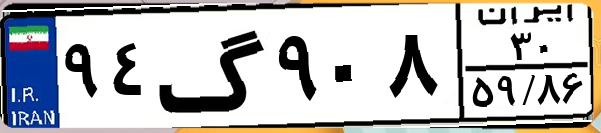0: (330, 28, 385, 110), (537, 27, 568, 80)
3: (508, 27, 537, 80)
4: (110, 28, 156, 98)
5: (470, 70, 495, 125)
6: (560, 70, 590, 125)
8: (385, 28, 445, 110), (535, 70, 560, 125)
9: (270, 28, 330, 110), (57, 26, 110, 100), (495, 70, 520, 125)
گ: (156, 12, 270, 120)
